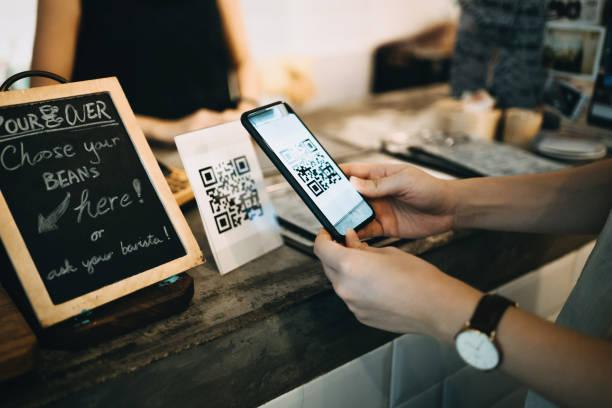Finder pattern: (195, 164, 219, 189), (212, 208, 233, 236), (230, 153, 252, 176), (305, 177, 324, 198), (279, 147, 297, 167), (301, 138, 318, 155)
